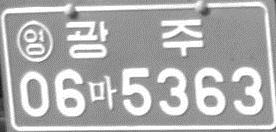0: (18, 70, 50, 118)
3: (230, 65, 264, 116), (155, 66, 188, 118)
5: (120, 67, 152, 117)
6: (192, 66, 226, 116), (53, 68, 86, 118)
광주_D: (64, 17, 205, 58)
마: (87, 73, 118, 110)
영: (15, 19, 54, 62)
